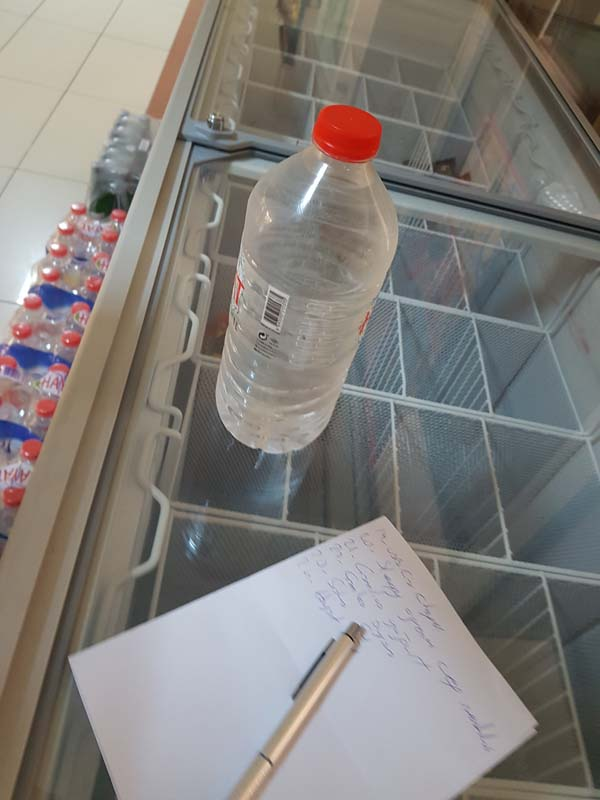saka500mlsu: (213, 99, 406, 463)
